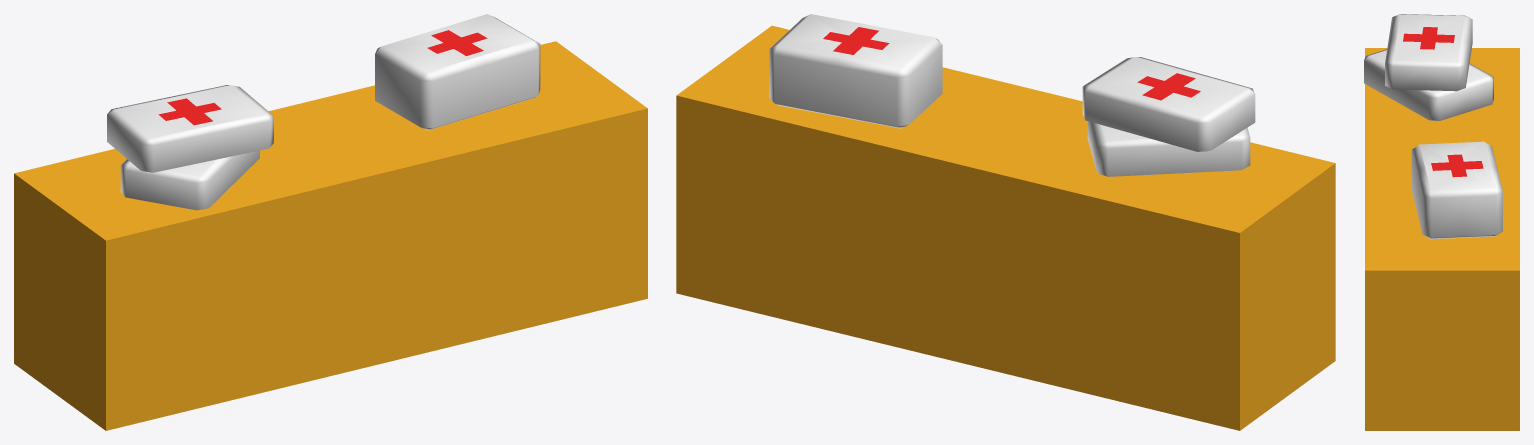
Rendered from Table_Up_2.fbx.
The picture shows the model from 3 angles, left to right: view 1: azimuth 30°, elevation 25°; view 2: azimuth 150°, elevation 25°; view 3: azimuth 270°, elevation 25°; orthographic projection. The views are drawn at different scales.
Parts seen in each view (by area): view 1: Table_2; view 2: Table_2; view 3: Table_2.
Part boxes in pixels (box(x1,y1,x2,y2)): Table_2: box(14, 14, 647, 430); Table_2: box(676, 14, 1335, 430); Table_2: box(1364, 14, 1519, 430).
Size of the model in its own units: 3.4 by 1.57 by 1.01.
1 material, 1 textured.
